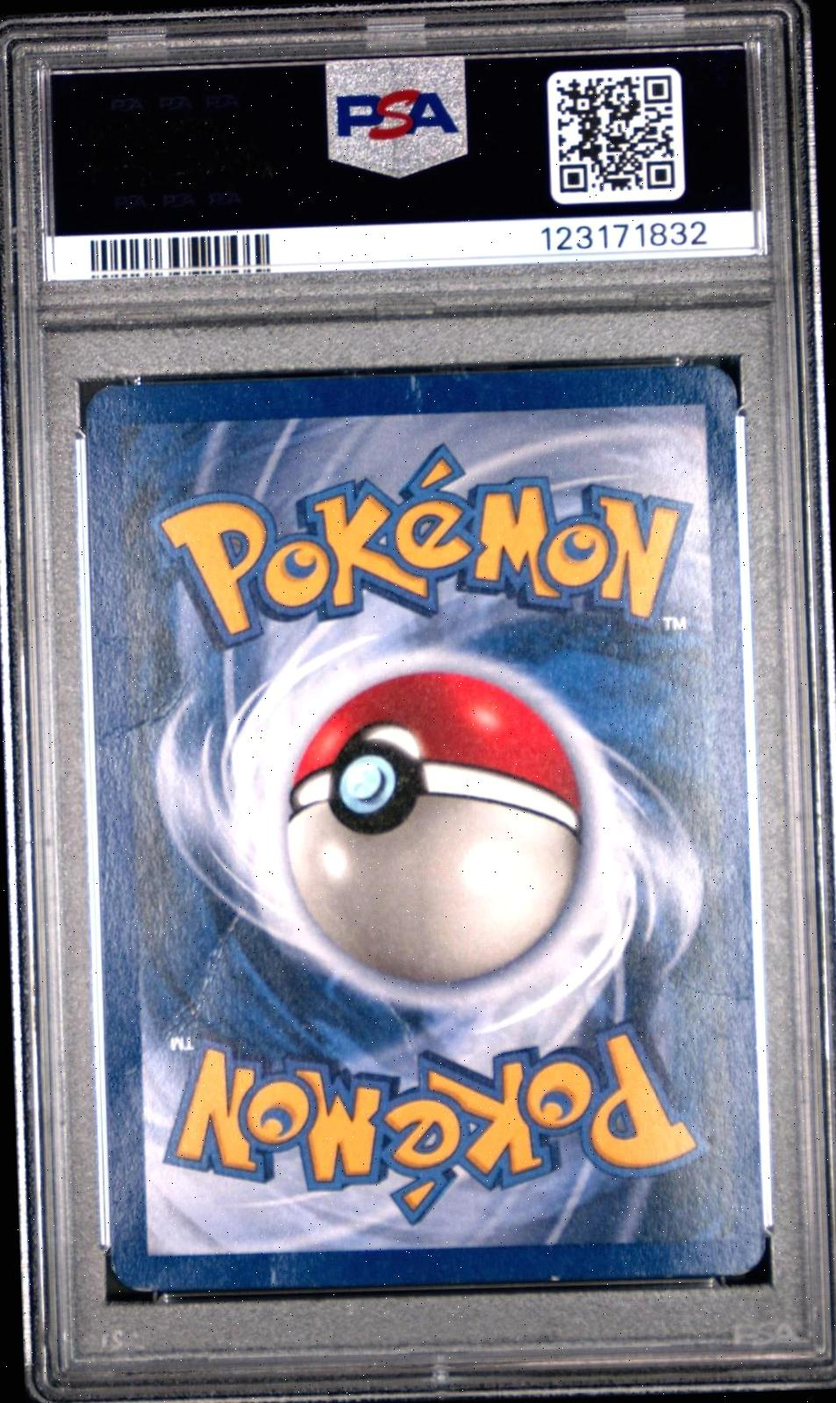card-2UtV: (84, 365, 765, 1292)
